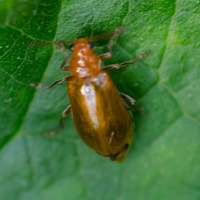insect: (30, 28, 147, 161)
